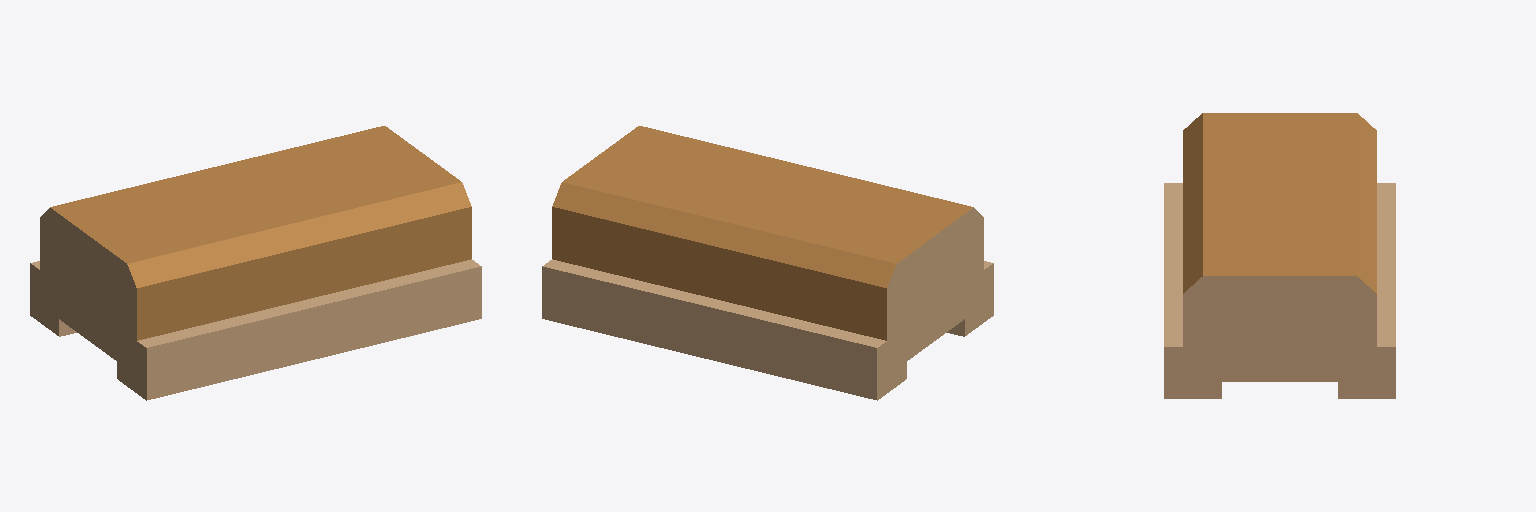
File: Pillar_Large_Beam_Top.obj
3 renders of one model, left to right at view 1: azimuth 30°, elevation 25°; view 2: azimuth 150°, elevation 25°; view 3: azimuth 270°, elevation 25°, orthographic.
Visible parts, largest first — view 1: object1; view 2: object1; view 3: object1.
Boxes of the visible parts, x1=… form: object1: x1=30, y1=126, x2=481, y2=400; object1: x1=542, y1=126, x2=993, y2=400; object1: x1=1164, y1=113, x2=1395, y2=398.
Size of the model in its own units: 1 by 0.35 by 0.6.